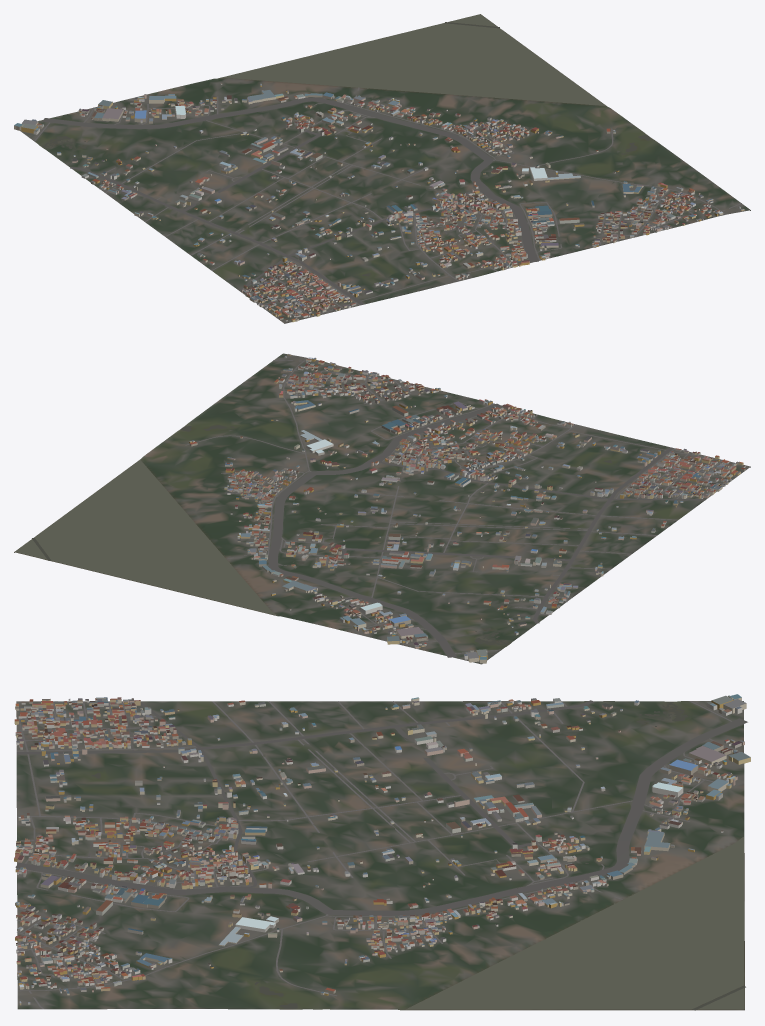
3 views of the same model, one above another, from view 1: azimuth 30°, elevation 25°; view 2: azimuth 150°, elevation 25°; view 3: azimuth 270°, elevation 25° (orthographic). The views are drawn at different scales.
Parts seen in each view (by area): view 1: ground, buildings, water, roads; view 2: ground, buildings, water, roads; view 3: ground, buildings, water, roads.
Part boxes in pixels (x1,y1,x2,y2): ground: (20,14,750,323); buildings: (14,83,744,322); water: (42,14,650,276); roads: (34,87,741,316); ground: (14,353,750,664); buildings: (189,354,745,663); water: (15,425,612,645); roads: (185,358,737,657); ground: (16,701,744,1010); buildings: (14,694,750,1005); water: (91,702,745,1010); roads: (15,700,747,1009).
Size of the model in its own units: 1413 by 22.8 by 1420.
